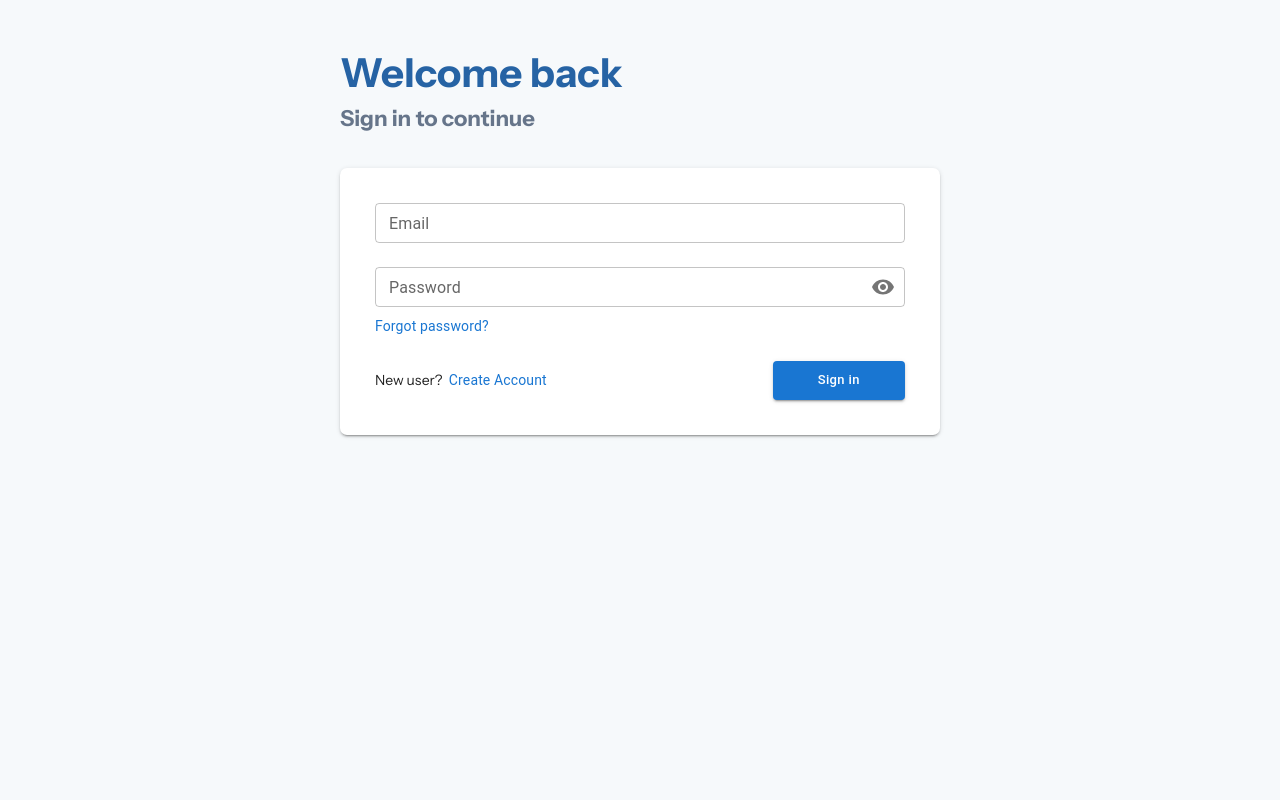
it: LoginForm › shows error message for invalid input
Type "test@example.com" into the field labelled "Email".
click(640, 223); type("test@example.com")  # box [375, 203, 905, 243]
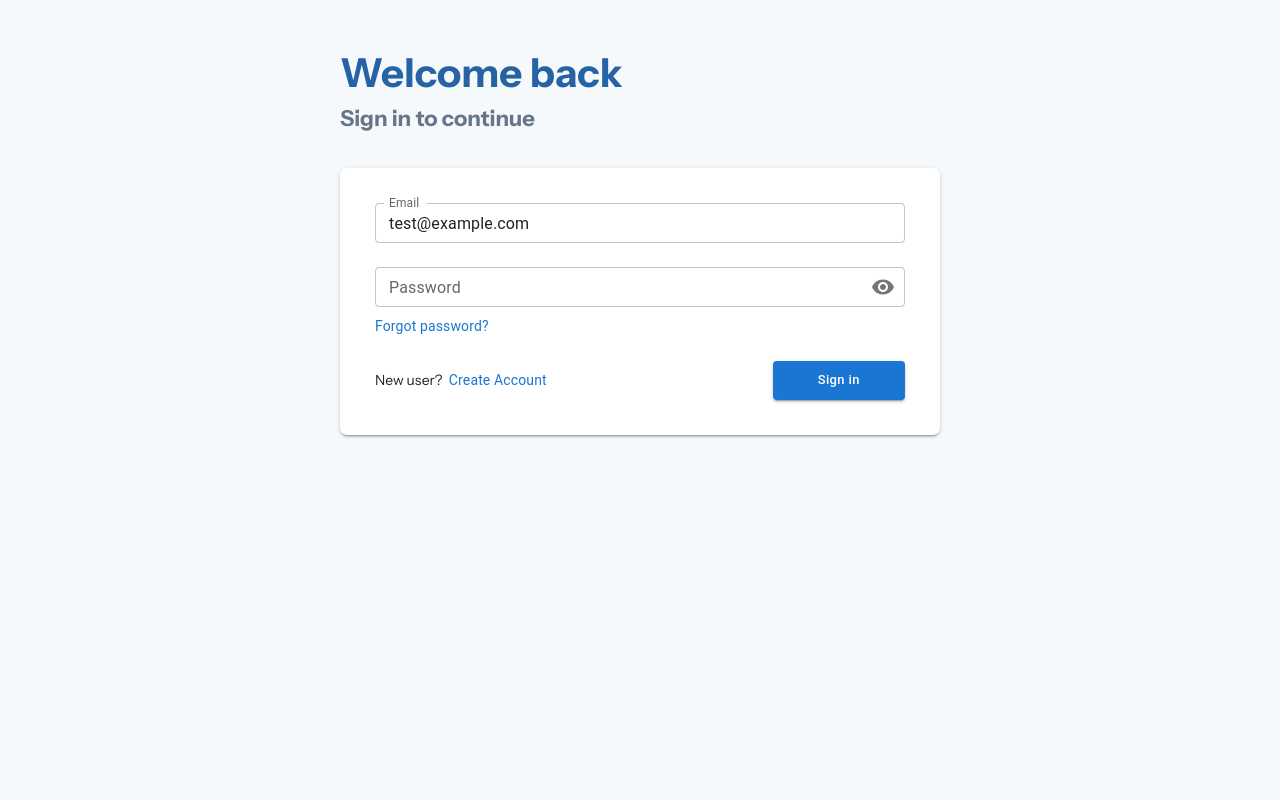
Type "wrong_password" into the password field labelled "Password".
click(615, 287); type("wrong_password")  # box [375, 267, 855, 307]
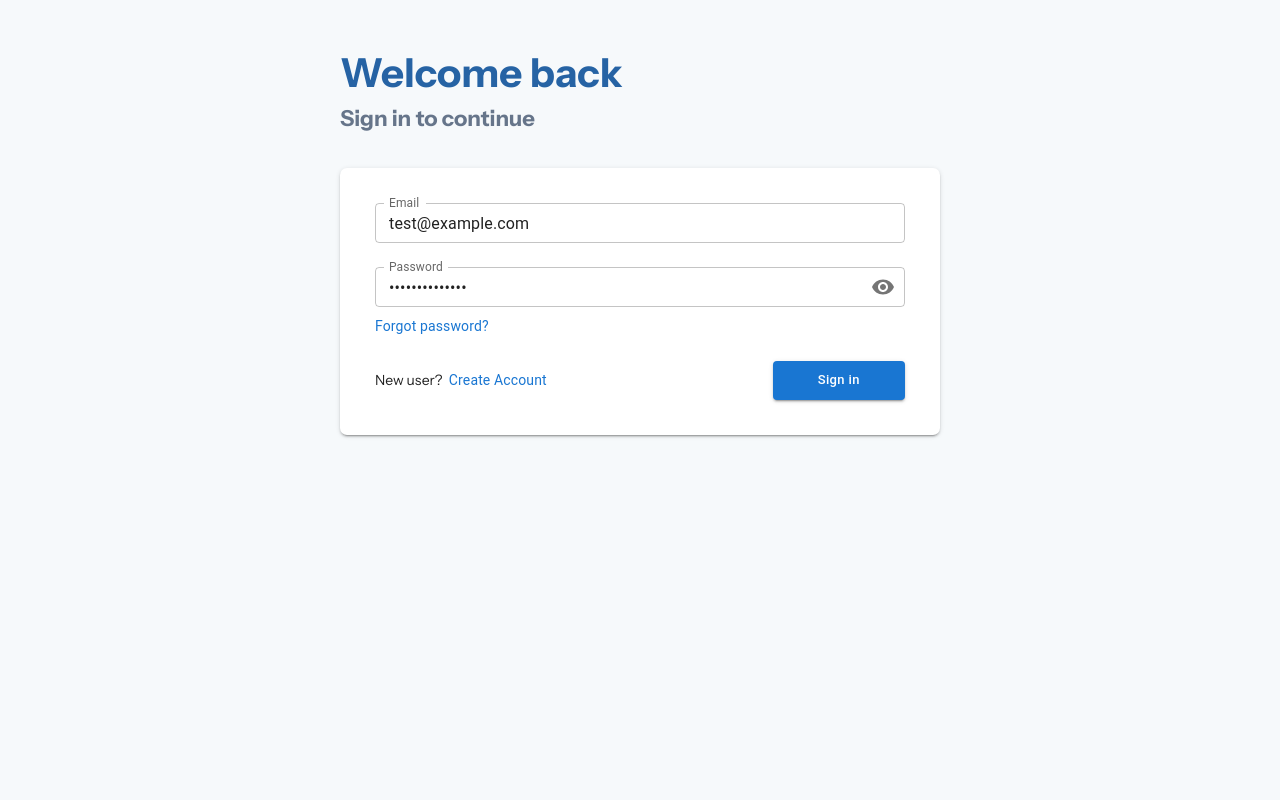
Click the button "Sign in".
click(839, 380)  # box [772, 361, 905, 400]
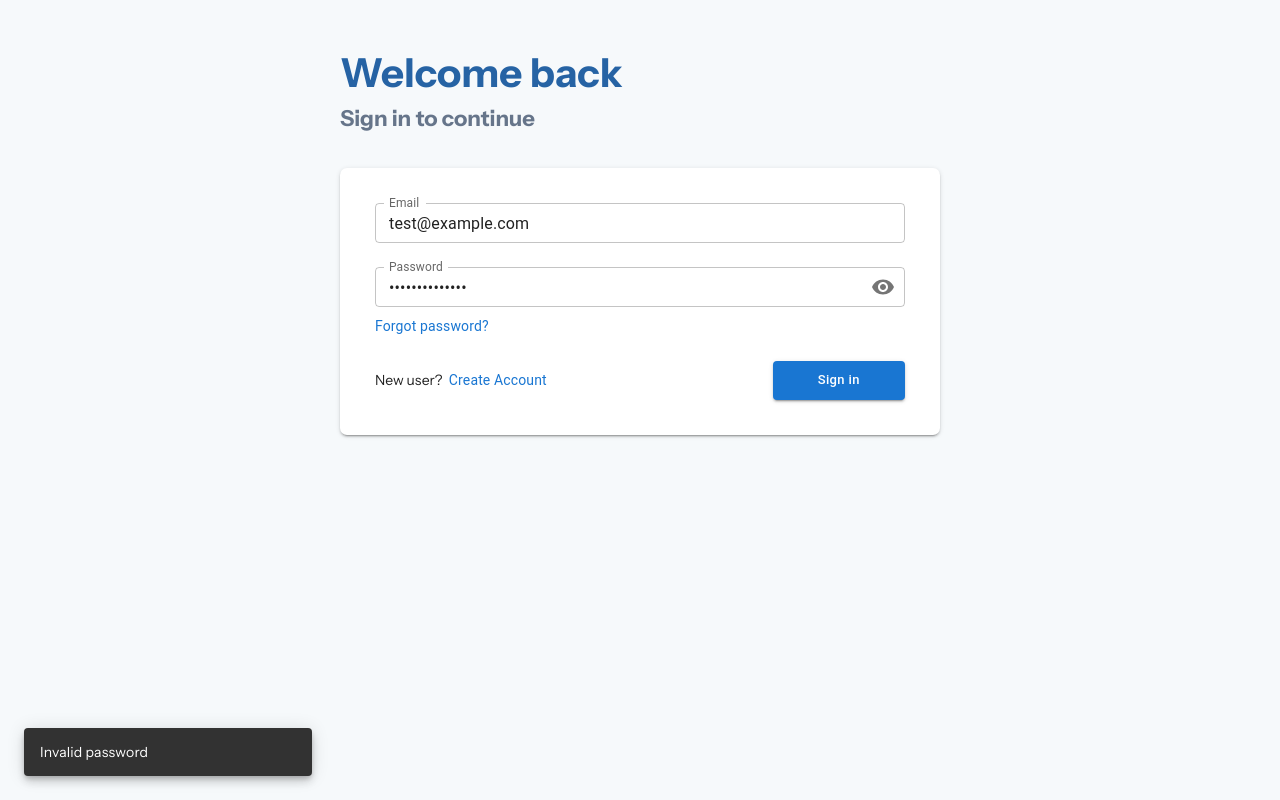
Expected: the text "Invalid password" is shown, [40, 743, 148, 761]
